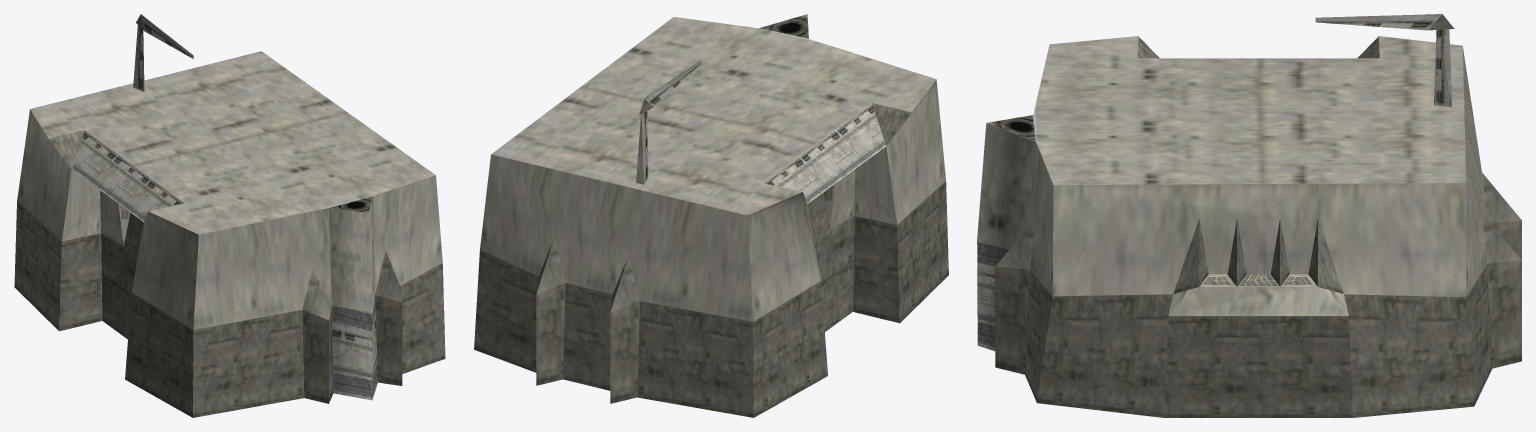
File: ins_all_factory_machine_l4.fbx
3 renders of one model, left to right at view 1: azimuth 30°, elevation 25°; view 2: azimuth 150°, elevation 25°; view 3: azimuth 270°, elevation 25°, orthographic. The views are drawn at different scales.
Visible parts, largest first — view 1: mesh_node; view 2: mesh_node; view 3: mesh_node.
Part boxes in pixels (<box>): mesh_node: <box>14,14,445,417</box>; mesh_node: <box>474,14,948,417</box>; mesh_node: <box>977,14,1521,417</box>.
Bounding box in the file's own units: 23.65 × 19.81 × 31.69.
